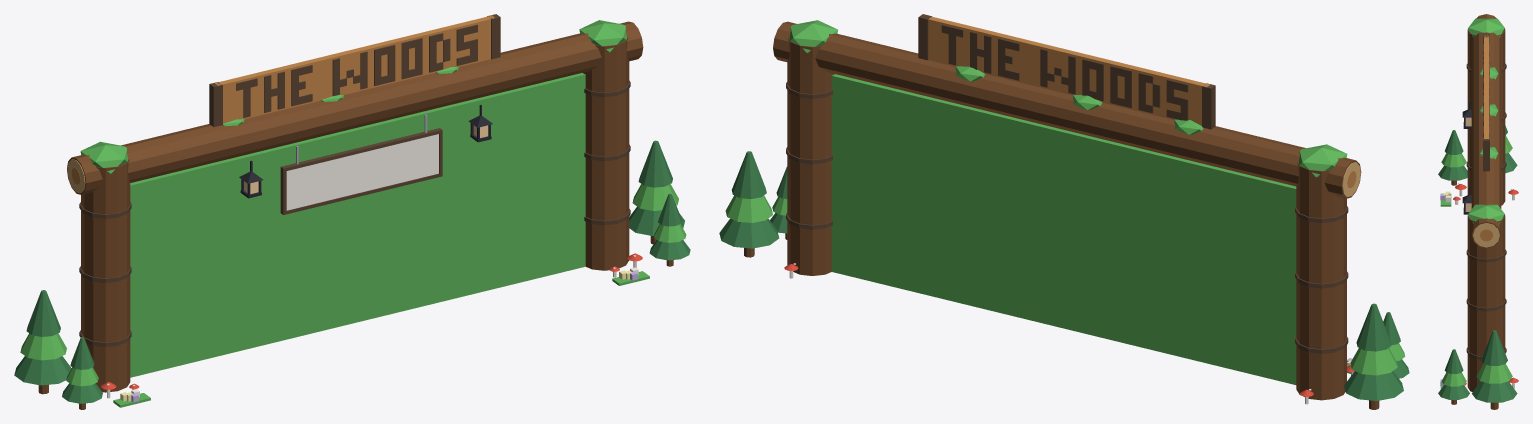
The model's file is CatCafe_Woods_Gate.fbx.
The picture shows the model from 3 angles, left to right: view 1: azimuth 30°, elevation 25°; view 2: azimuth 150°, elevation 25°; view 3: azimuth 270°, elevation 25°; orthographic projection. The views are drawn at different scales.
Parts seen in each view (by area): view 1: CatCafe_Woods_Gate_Bars, CatCafe_Woods_Gate, CatCafe_Woods_Gate_SignBoard, CatCafe_Woods_Gate_Flowers; view 2: CatCafe_Woods_Gate_Bars, CatCafe_Woods_Gate; view 3: CatCafe_Woods_Gate, CatCafe_Woods_Gate_Flowers, CatCafe_Woods_Gate_Lamp_Bulb.
Boxes of the visible parts, x1,y1,x2,y2 form: CatCafe_Woods_Gate_Bars: [130, 73, 585, 377]; CatCafe_Woods_Gate: [14, 14, 690, 409]; CatCafe_Woods_Gate_SignBoard: [286, 134, 438, 210]; CatCafe_Woods_Gate_Flowers: [113, 267, 649, 407]; CatCafe_Woods_Gate_Bars: [831, 74, 1296, 384]; CatCafe_Woods_Gate: [719, 14, 1409, 409]; CatCafe_Woods_Gate: [1438, 14, 1518, 409]; CatCafe_Woods_Gate_Flowers: [1440, 191, 1451, 389]; CatCafe_Woods_Gate_Lamp_Bulb: [1465, 117, 1471, 211].
Size of the model in its own units: 43.23 by 16.9 by 5.99.
Materials: 1 (1 with a texture image).
